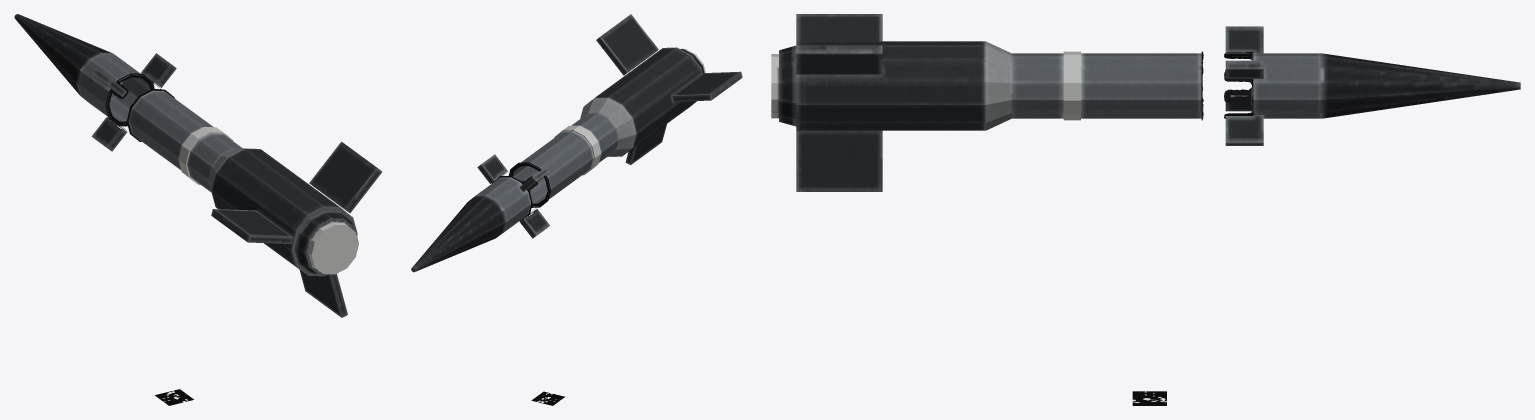
The model's file is chs_interceptor.fbx.
3 views of the same model, side by side, from view 1: azimuth 30°, elevation 25°; view 2: azimuth 150°, elevation 25°; view 3: azimuth 270°, elevation 25° (orthographic). The views are drawn at different scales.
Visible parts, largest first — view 1: base_bar, base_glow_weapon_bar, base_glow_running_bar, emissive_probe; view 2: base_bar, base_glow_running_bar; view 3: base_bar, base_glow_running_bar.
Part boxes in pixels (x1=…): base_bar: x1=14, y1=14, x2=381, y2=317; base_glow_weapon_bar: x1=308, y1=222, x2=358, y2=274; base_glow_running_bar: x1=178, y1=127, x2=233, y2=184; emissive_probe: x1=155, y1=389, x2=193, y2=405; base_bar: x1=411, y1=14, x2=742, y2=272; base_glow_running_bar: x1=554, y1=125, x2=601, y2=175; base_bar: x1=779, y1=14, x2=1520, y2=191; base_glow_running_bar: x1=1063, y1=51, x2=1080, y2=120.
Size of the model in its own units: 106 by 246 by 435.
2 materials, 2 textured.
